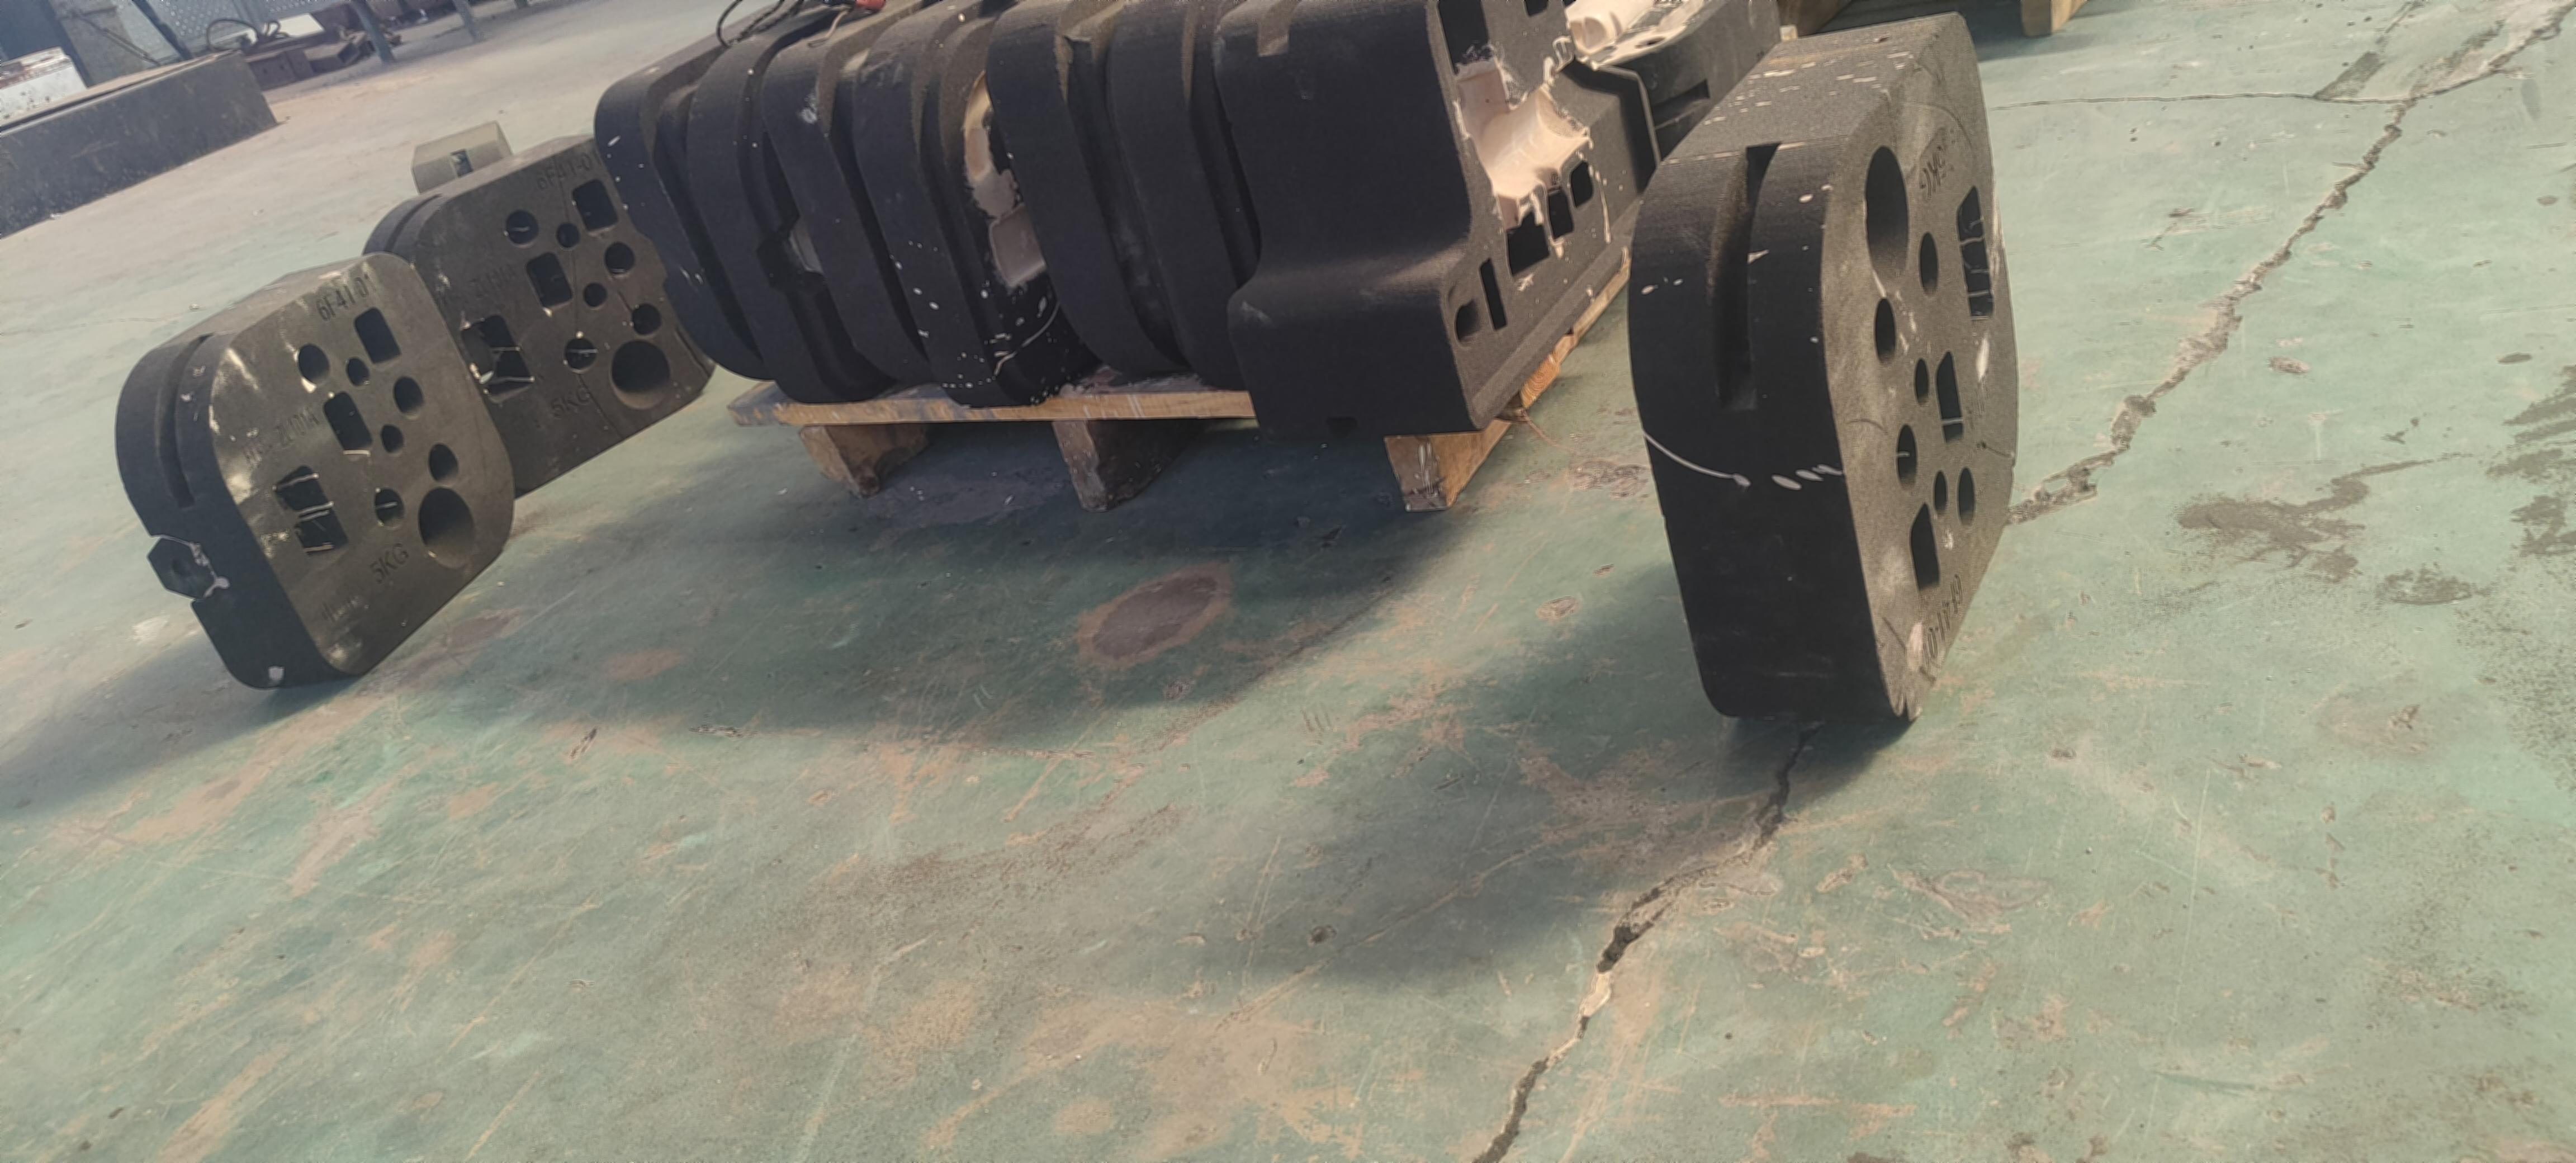pouring hole: (1863, 146, 1909, 294), (419, 488, 476, 567), (610, 338, 672, 411)
